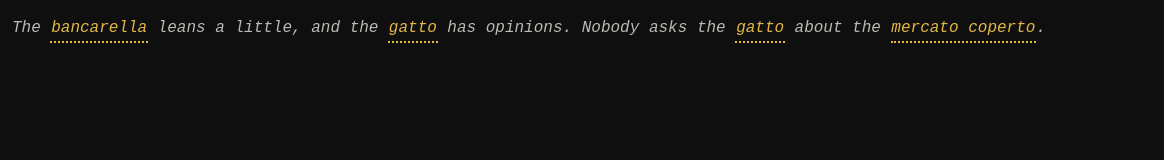
Test: a tap on a word shows its meaning after it, a second tap hides it, and each word keeps its own
Expected: the element with class "narrative" shows "The bancarella leans a little, and the gatto has opinions. Nobody asks the gatto about the mercato coperto.", [12,16,1163,43]
Click the button "bancarella". click: (99, 29)
box: [50,16,148,43]
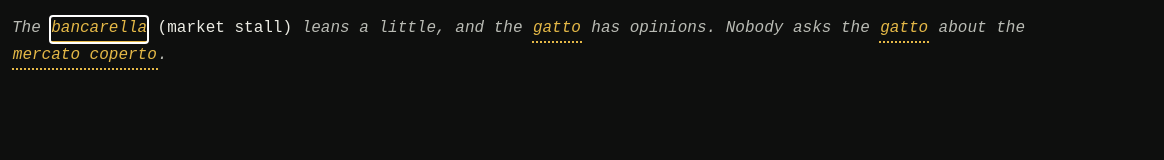
Result: the text "(market stall)" is shown at [148,19,292,37]
Result: the element with class "narrative" shows "The bancarella (market stall) leans" at [12,16,1163,70]
Click the 1st button "gatto". click: (557, 29)
box: [532,16,582,43]
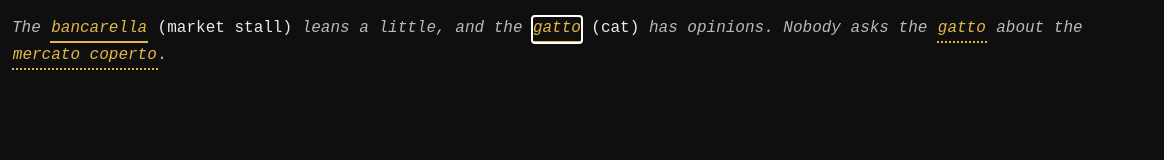
Result: the element with class "narrative" shows "the gatto (cat) has opinions. Nobody asks the gatto about" at [12,16,1163,70]
Click the button "bancarella". click: (99, 29)
box: [50,16,148,43]
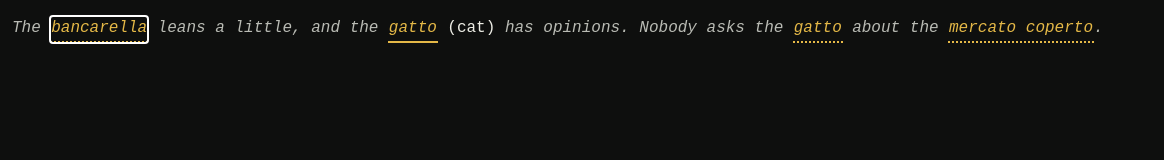
Result: the element with class "narrative" shows "gatto (cat)" at [12,16,1163,43]
Result: the message with class "narrative" no longer shows "(market stall)"
